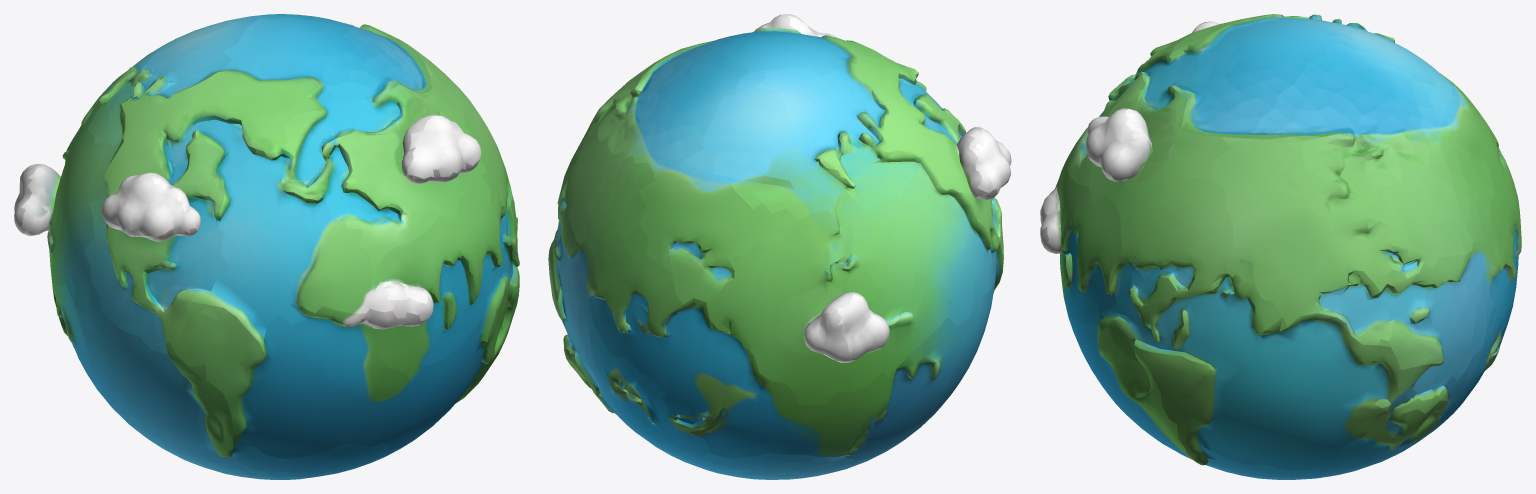
File: earth-lux3d.glb
3 views of the same model, side by side, from view 1: azimuth 30°, elevation 25°; view 2: azimuth 150°, elevation 25°; view 3: azimuth 270°, elevation 25° (orthographic). The views are drawn at different scales.
Visible parts, largest first — view 1: geometry_0; view 2: geometry_0; view 3: geometry_0.
Part boxes in pixels (x1=…): geometry_0: x1=14, y1=14, x2=519, y2=479; geometry_0: x1=548, y1=14, x2=1011, y2=479; geometry_0: x1=1040, y1=14, x2=1521, y2=479.
Size of the model in its own units: 0.3 by 0.3013 by 0.3095.
Materials: 1 (1 with a texture image).
